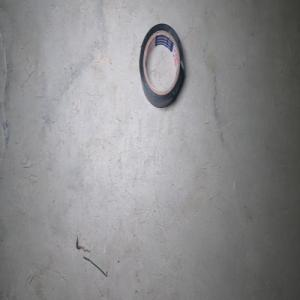Tape: (139, 23, 185, 108)
